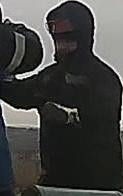gloves: (42, 101, 86, 129)
helmet: (44, 13, 82, 36)
vest: (39, 55, 121, 189)
